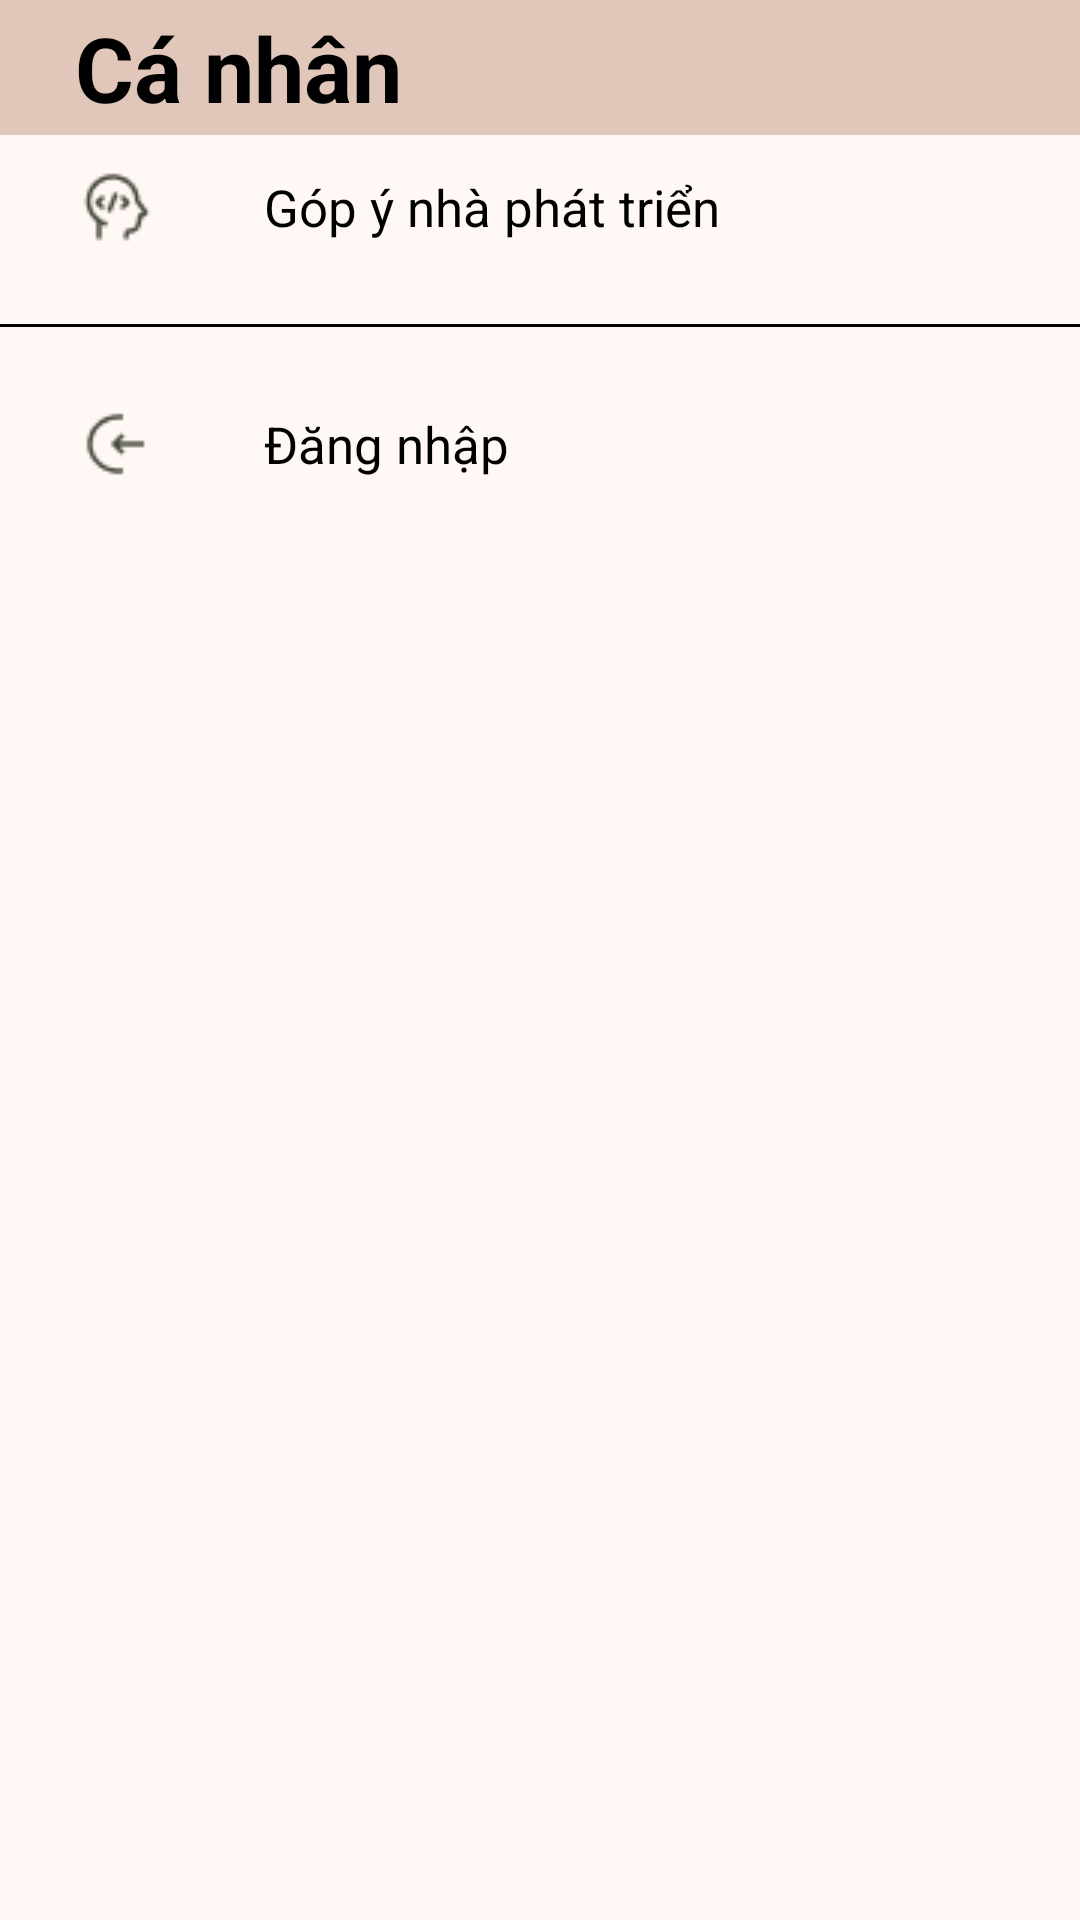

Icons on this 1080 x 1920 Android screen, each with its box as bbox=[x1, y1, x2, y2]:
icondangnhap: bbox=[86, 413, 145, 475]
